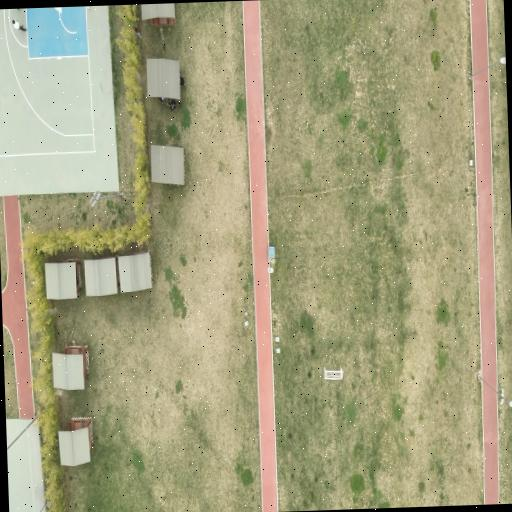person: (11, 19, 25, 31), (132, 26, 142, 40), (168, 98, 175, 110), (10, 4, 20, 11), (179, 76, 183, 85), (158, 97, 164, 102)
